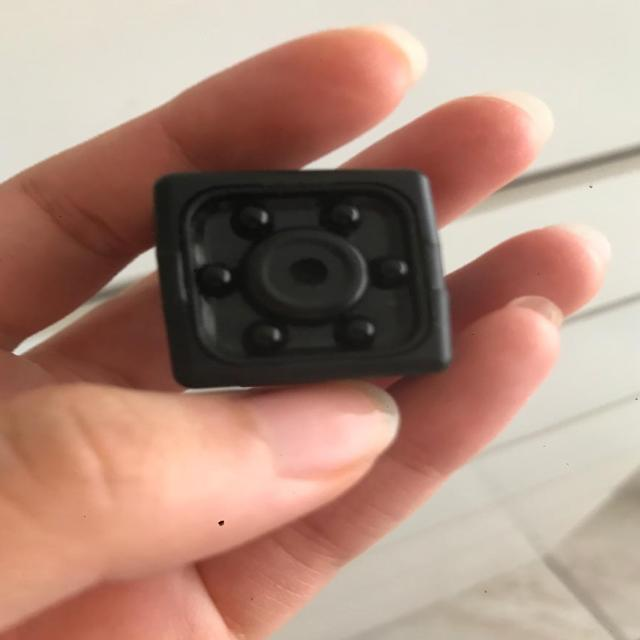hidden camera: (263, 241, 356, 308)
